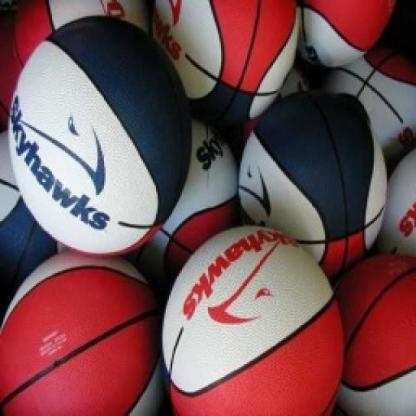basketball: (12, 12, 182, 247), (164, 227, 344, 416), (237, 85, 390, 272), (0, 249, 166, 416), (0, 0, 153, 118), (154, 0, 300, 120), (0, 124, 75, 282), (340, 261, 416, 415), (326, 51, 416, 162), (294, 0, 405, 66), (384, 146, 416, 258)
